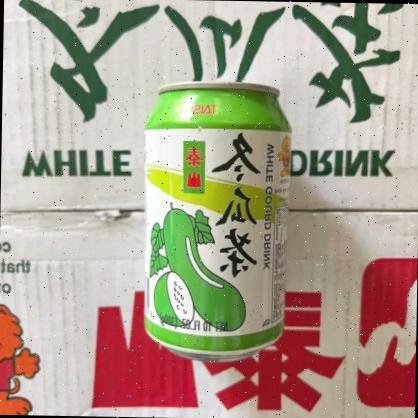can: (142, 78, 292, 364)
